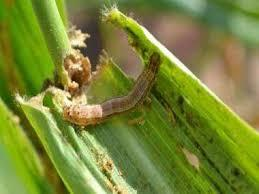fallarmy_worm: (48, 52, 180, 123)
